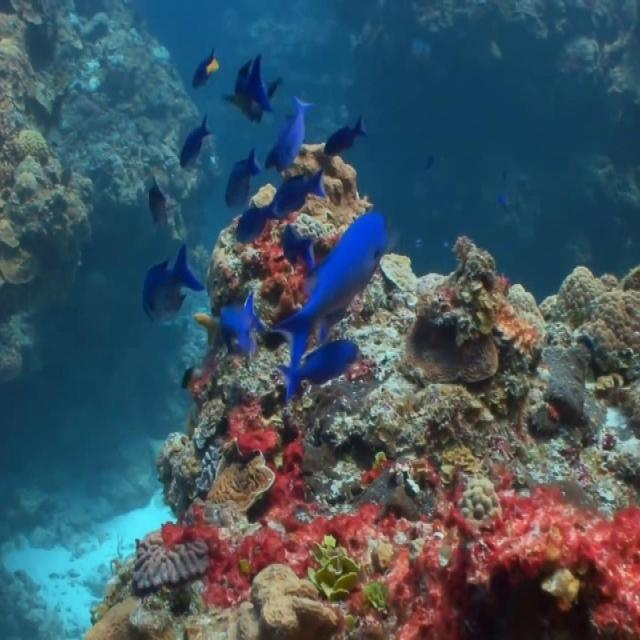fish: (273, 214, 389, 360), (143, 244, 205, 322), (276, 340, 359, 398), (223, 53, 285, 125), (277, 97, 317, 173), (220, 289, 266, 352), (272, 169, 325, 215), (225, 149, 261, 206), (235, 202, 280, 242), (325, 114, 369, 154), (181, 114, 214, 167), (281, 226, 315, 266), (193, 49, 223, 87)
sea-floor: (0, 2, 223, 560)
